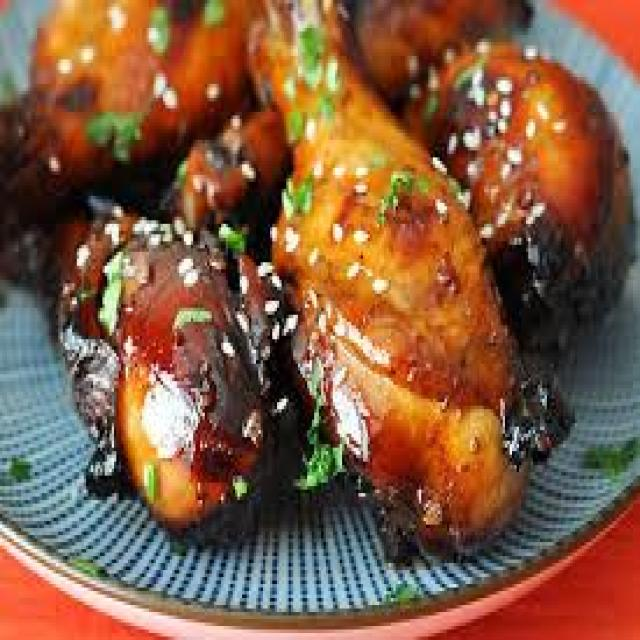ayam bakar: (258, 0, 524, 542), (49, 203, 277, 535)
